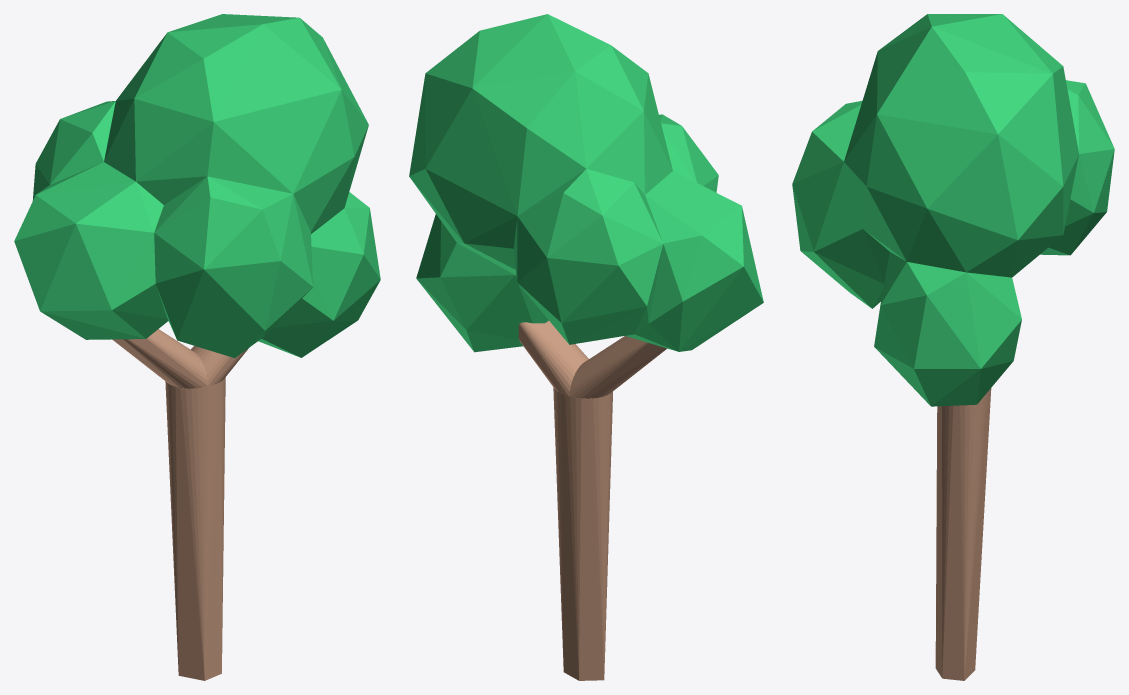
File: tree4.fbx
3 views of the same model, side by side, from view 1: azimuth 30°, elevation 25°; view 2: azimuth 150°, elevation 25°; view 3: azimuth 270°, elevation 25° (orthographic). The views are drawn at different scales.
Visible parts, largest first — view 1: treetype4; view 2: treetype4; view 3: treetype4.
Boxes of the visible parts, x1=… form: treetype4: x1=14, y1=14, x2=380, y2=680; treetype4: x1=409, y1=14, x2=763, y2=680; treetype4: x1=792, y1=14, x2=1114, y2=680.
Bounding box in the file's own units: 116 × 215 × 93.54.
